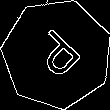P_SE: (25, 23, 88, 85)
